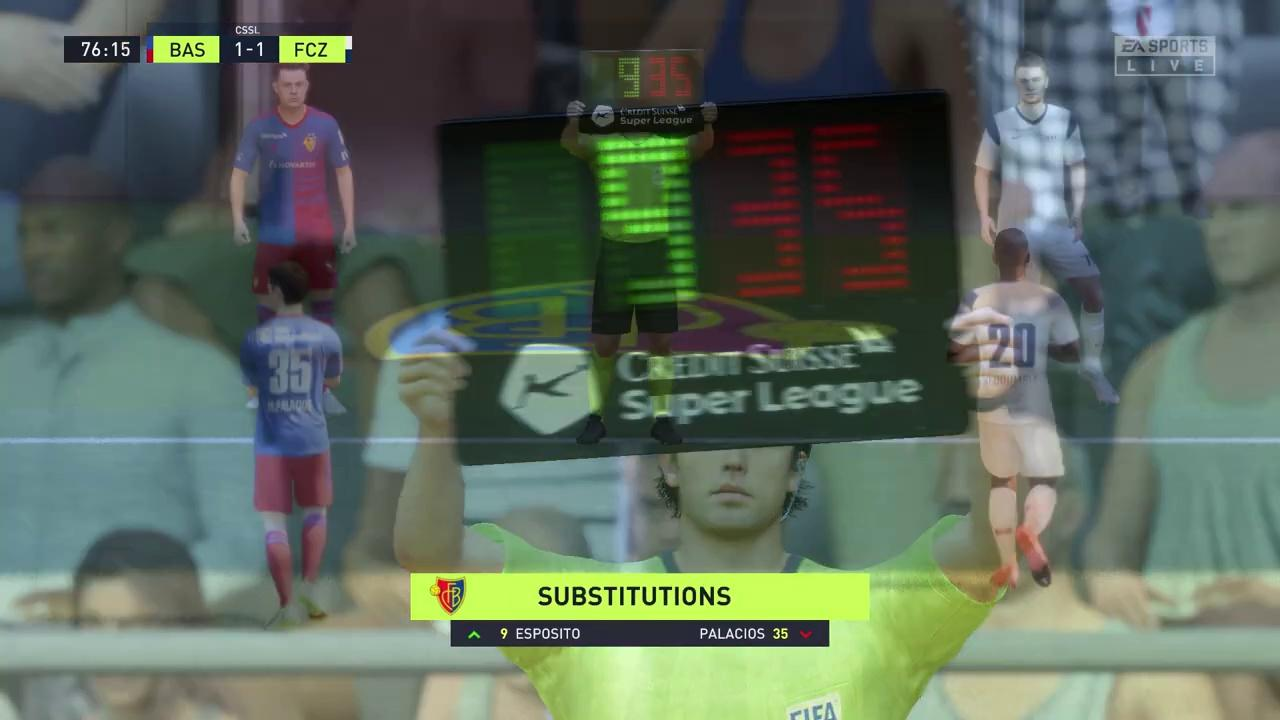scoreboard: (154, 36, 351, 62)
timestamp: (64, 36, 142, 63)
